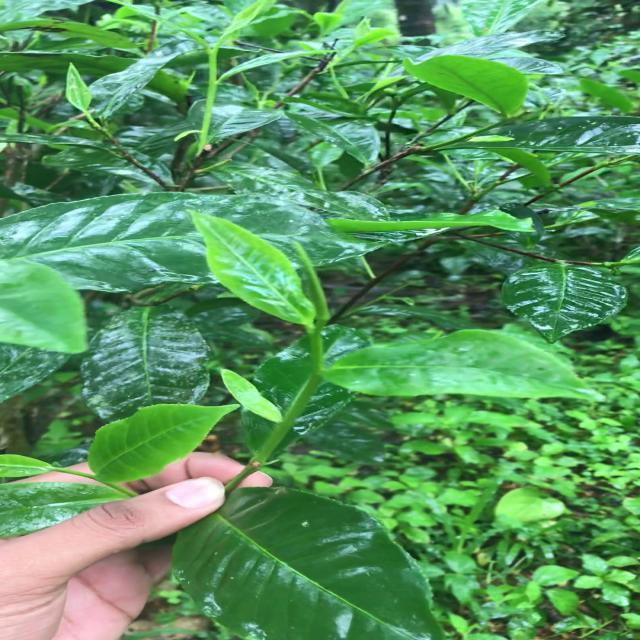Stem: (312, 370, 323, 381), (208, 49, 215, 58)
